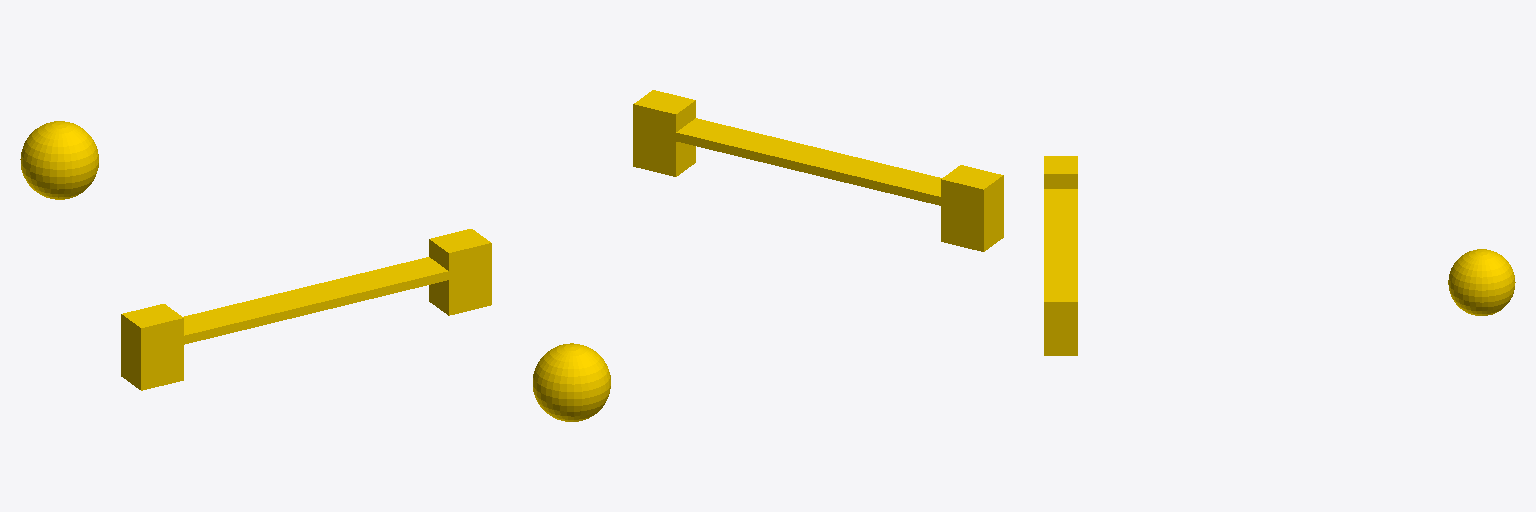
robot.urdf — gate:
<?xml version="1.0" ?>
<robot name = "gate">


    <link name = "base_left">
        <visual>
            <origin xyz = "-0.9 0 0.175" rpy = "0 0 0"/>
 
            <geometry>
                <box size = "0.25 0.2 0.35"/>
            </geometry>
            <material name = "red">
                <color rgba = "1.0 0.8431372549019608 0.0 0"/>
            </material>    
        </visual>
        <collision>
            <origin xyz = "-0.9 0 0.175" rpy = "0 0 0"/>
            <geometry>
                <box size = "0.25 0.2 0.35"/>
            </geometry>
            <!-- <origin xyz = "-0.9 0 0.15" rpy = "0 0 0"/> -->
        </collision>
        <inertial>
            <mass value="20"/>
            <inertia ixx="0.01" ixy="0.0" ixz="0.0" iyy="0.01" iyz="0.0" izz="0.01"/>
          </inertial>
      
    </link> 


    <link name = "base_up">
        <visual>
            <origin xyz = "0 0 0.225" rpy = "0 0 0"/>
            <geometry>
                <box size = "1.8 0.2 0.05"/>
            </geometry>
            <!-- <origin xyz = "0 0 0.275" rpy = "0 0 0"/> -->
            <material name = "red">
                <color rgba = "1.0 0.8431372549019608 0.0 0"/>
            </material>    

        </visual>
        <collision>
            <origin xyz = "0 0 0.225" rpy = "0 0 0"/>
            <geometry>
                <box size = "1.8 0.2 0.05"/>
            </geometry>
            <!-- <origin xyz = "0 0 0.275" rpy = "0 0 0"/> -->
        </collision>
        <inertial>
            <mass value="20"/>
            <inertia ixx="0.01" ixy="0.0" ixz="0.0" iyy="0.01" iyz="0.0" izz="0.01"/>
          </inertial>
      
    </link> 


    <joint name = "base_ji_left" type = 'fixed'>
        <parent link = "base_left"/>
        <child link = "base_up"/>
        <origin xyz = "0 0 0" rpy = "0 0 0"/>
    </joint>

    <link name = "base_right">
        <visual>
            <origin xyz = "0.9 0 0.175" rpy = "0 0 0"/>
            <geometry>
                <box size = "0.25 0.2 0.35"/>
            </geometry>
            <material name = "red">
                <color rgba = "1.0 0.8431372549019608 0.0 0"/>
            </material>    
            <!-- <origin xyz = "0.9 0 0.15" rpy = "0 0 0"/> -->
        </visual>
        <collision>
            <origin xyz = "0.9 0 0.175" rpy = "0 0 0"/>
            <geometry>
                <box size = "0.25 0.2 0.35"/>
            </geometry>
            
        </collision>
        <inertial>
            <mass value="20"/>
            <inertia ixx="0.01" ixy="0.0" ixz="0.0" iyy="0.01" iyz="0.0" izz="0.01"/>
          </inertial>
      
    </link> 

    <joint name = "base_ji_right" type = 'fixed'>
        <parent link = "base_up"/>
        <child link = "base_right"/>
        <origin xyz = "0 0 0" rpy = "0 0 0"/>
    </joint>

  <link name="ball">
    <visual>
      <origin xyz="0 2.5 0"/>
      <geometry>
        <sphere radius="0.2"/>
      </geometry>
            <material name = "red">
                <color rgba = "1.0 0.8431372549019608 0.0 0"/>
            </material>    
    </visual>
    <collision>
      <origin xyz="0 2.5 0"/>
      <geometry>
        <sphere radius="0.2"/>
      </geometry>
    </collision>
    <inertial>
      <mass value="0.5"/>
      <inertia ixx="0.01" ixy="0.0" ixz="0.0" iyy="0.01" iyz="0.0" izz="0.01"/>
    </inertial>
  </link>


    <joint name = "base_ji_back" type = 'fixed'>
        <parent link = "base_up"/>
        <child link = "ball"/>
        <origin xyz = "0 0 0" rpy = "0 0 0"/>
    </joint>

    


</robot>

--- What the picture shows (computed from the rendered views, not written in the file) ---
Views: 3 orthographic renders of the robot side by side, from view 1: azimuth 30°, elevation 25°; view 2: azimuth 150°, elevation 25°; view 3: azimuth 270°, elevation 25°.
Robot: gate — 4 links, 3 joints (3 fixed); root link base_left; default pose: all joints at 0.
Links seen in each view (by area): view 1: base_up, ball, base_left, base_right; view 2: base_up, ball, base_left, base_right; view 3: ball, base_up, base_right, base_left.
Boxes of the visible links, <box> form: base_up: <box>163,257,469,349</box>; ball: <box>20,121,98,199</box>; base_left: <box>121,304,183,390</box>; base_right: <box>429,229,491,315</box>; base_up: <box>655,118,954,205</box>; ball: <box>533,343,610,421</box>; base_left: <box>941,165,1003,251</box>; base_right: <box>633,90,695,176</box>; ball: <box>1448,249,1515,315</box>; base_up: <box>1044,189,1077,283</box>; base_right: <box>1044,284,1077,355</box>; base_left: <box>1044,156,1077,188</box>.
Size in the robot's own frame: 2.05 by 2.8 by 0.55 metres.
Geometry: primitives only (box / cylinder / sphere), no mesh files.